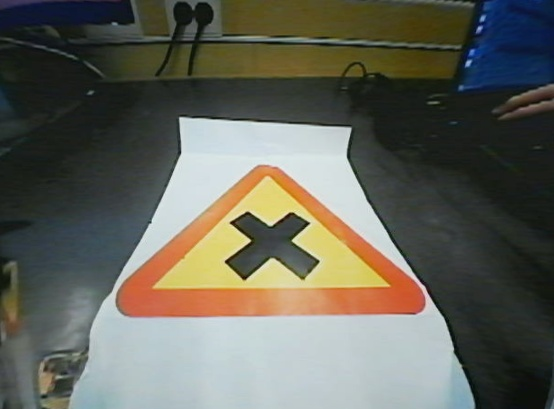junction: (108, 162, 437, 333)
